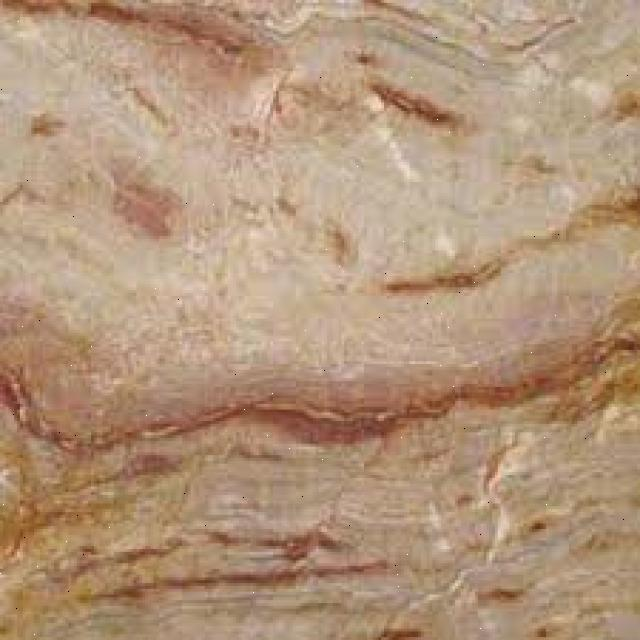Metamorphic: (3, 3, 637, 640)
